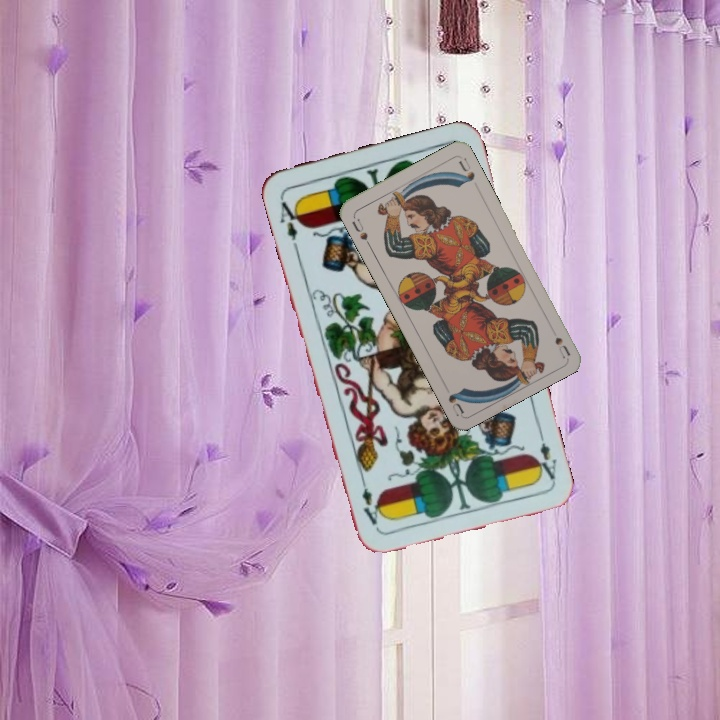EA: (275, 193, 305, 251), (530, 425, 560, 482)
SU: (545, 321, 573, 360), (348, 212, 374, 250)
